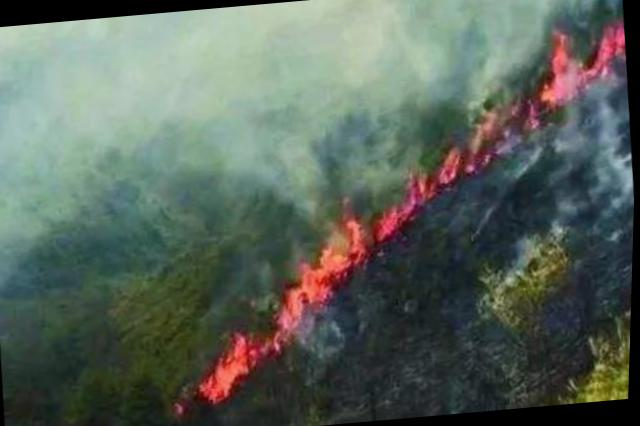fire: (170, 25, 638, 400)
